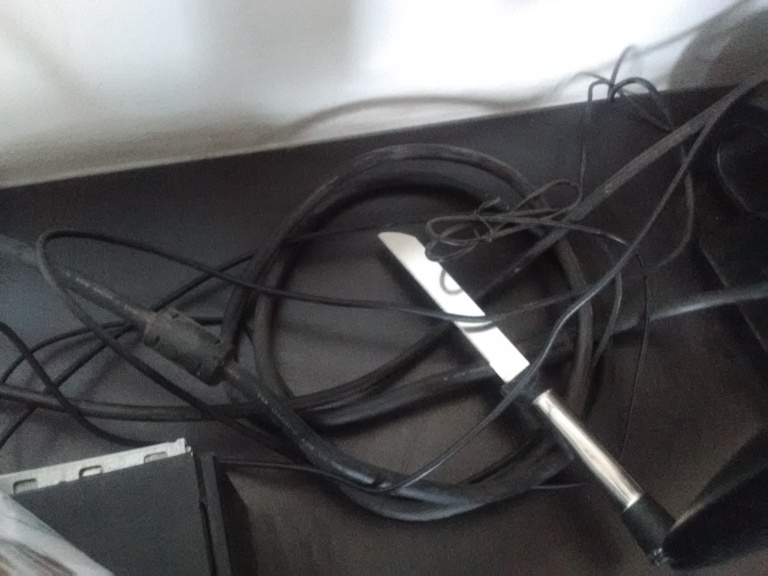knife: (377, 228, 672, 564)
